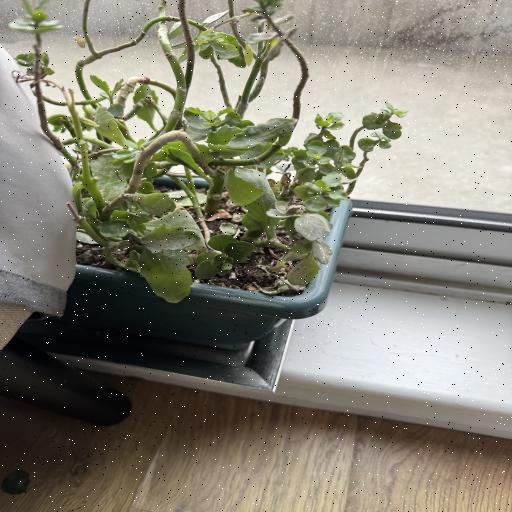Plant Pot: (74, 176, 355, 350)
